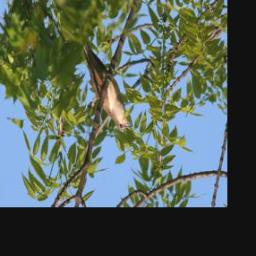Cuckoo: (81, 39, 131, 131)
